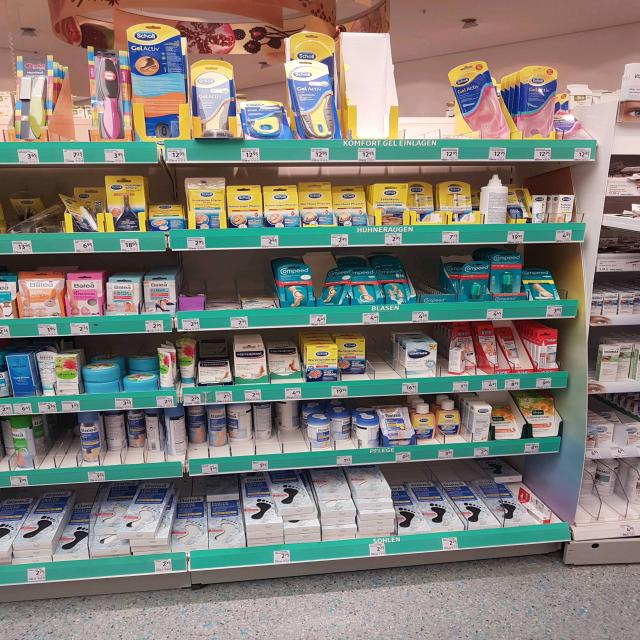void: (402, 29, 448, 163), (54, 37, 92, 164), (367, 331, 399, 395), (210, 258, 240, 326), (414, 259, 444, 322), (51, 415, 74, 487)
